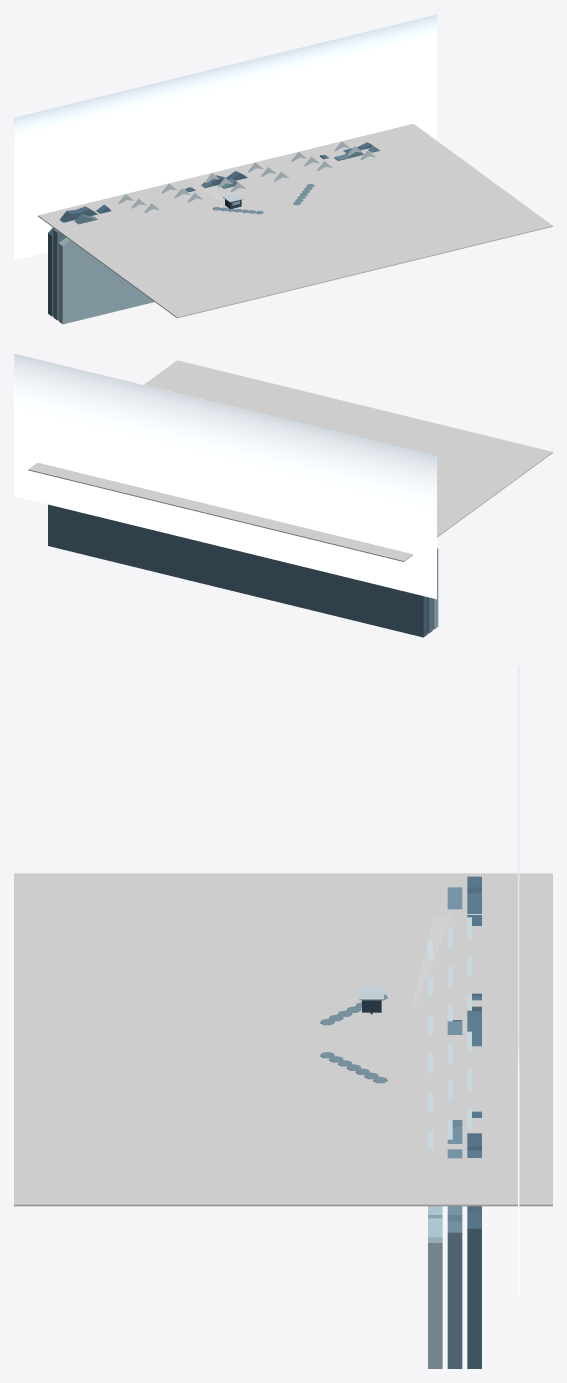
Rendered from whiteouttower.glb.
3 renders of one model, top to bottom at view 1: azimuth 30°, elevation 25°; view 2: azimuth 150°, elevation 25°; view 3: azimuth 270°, elevation 25°, orthographic. The views are drawn at different scales.
Visible parts, largest first — view 1: Ground contact / transparent shadow receiver.067, Sky gradient / editable material.067, World / terrain and architecture.030; view 2: Sky gradient / editable material.067, Ground contact / transparent shadow receiver.067, World / terrain and architecture.030; view 3: Ground contact / transparent shadow receiver.067, World / terrain and architecture.030, Sky gradient / editable material.067, Foreground / edge details.028.
Part boxes in pixels (box(x1,y1,x2,y2)): Ground contact / transparent shadow receiver.067: box(38, 123, 552, 318); Sky gradient / editable material.067: box(14, 14, 436, 260); World / terrain and architecture.030: box(48, 141, 380, 324); Sky gradient / editable material.067: box(14, 353, 436, 599); Ground contact / transparent shadow receiver.067: box(28, 360, 552, 561); World / terrain and architecture.030: box(48, 504, 438, 637); Ground contact / transparent shadow receiver.067: box(14, 873, 552, 1206); World / terrain and architecture.030: box(359, 876, 481, 1368); Sky gradient / editable material.067: box(518, 666, 519, 1296); Foreground / edge details.028: box(320, 994, 387, 1083).
Bounding box in the file's own units: 180 × 79 × 110.
